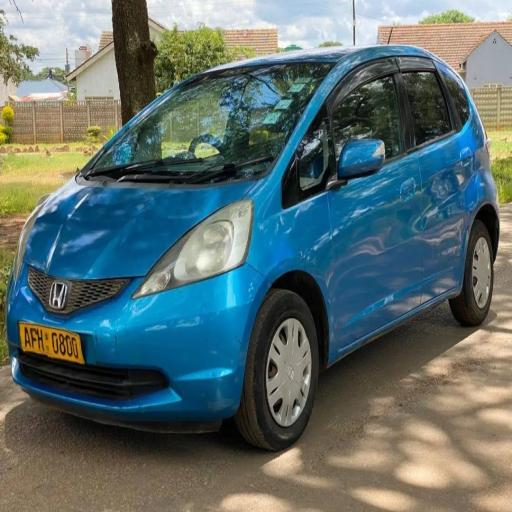number-plates: (19, 323, 83, 364)
